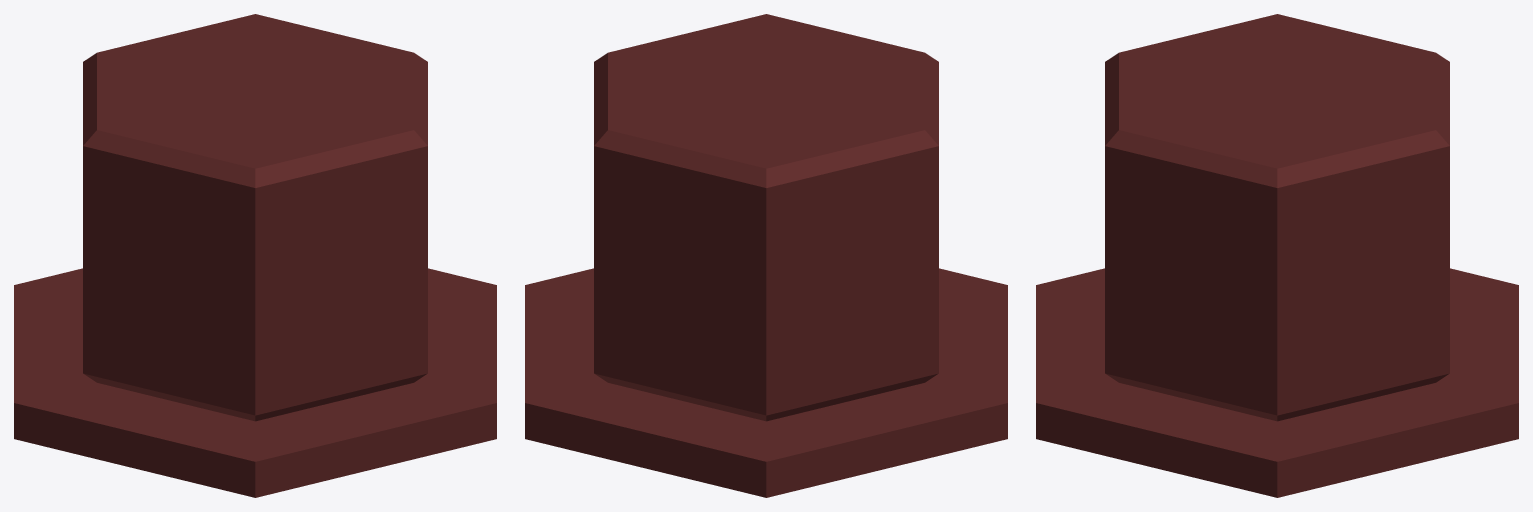
File: column-desert-03.fbx
The picture shows the model from 3 angles, left to right: view 1: azimuth 30°, elevation 25°; view 2: azimuth 150°, elevation 25°; view 3: azimuth 270°, elevation 25°; orthographic projection.
Parts seen in each view (by area): view 1: pCylinder44, pCylinder48; view 2: pCylinder44, pCylinder48; view 3: pCylinder44, pCylinder48.
Part boxes in pixels (x1,y1,x2,y2): pCylinder44: (83, 14, 427, 421); pCylinder48: (14, 268, 496, 497); pCylinder44: (594, 14, 938, 421); pCylinder48: (525, 268, 1007, 497); pCylinder44: (1105, 14, 1449, 421); pCylinder48: (1036, 268, 1518, 497).
Size of the model in its own units: 2.8 by 1.6 by 2.42.
